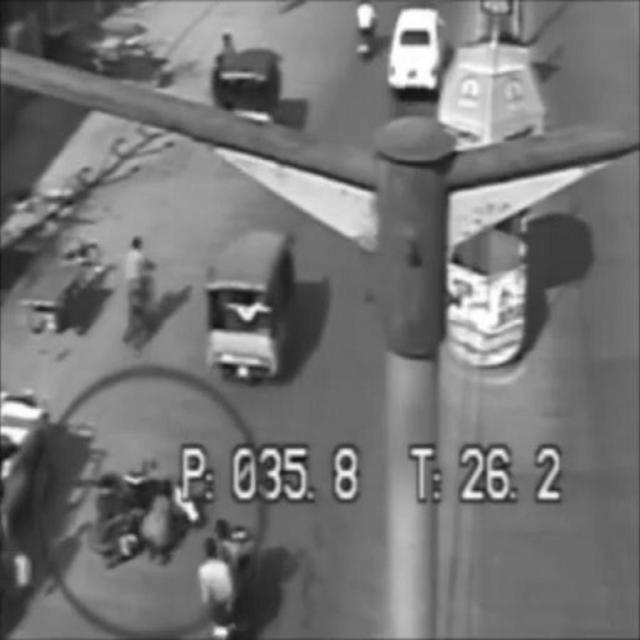vehicle: (202, 226, 292, 370), (78, 460, 202, 551), (120, 230, 160, 352), (392, 8, 447, 91)
